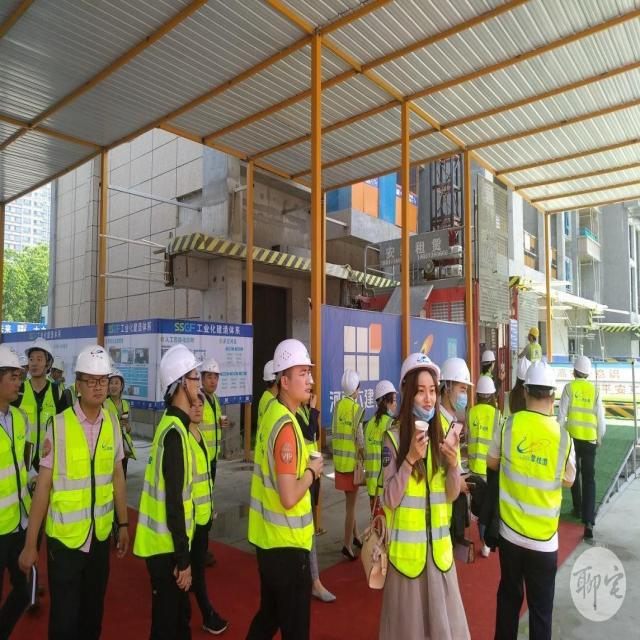helmet: (154, 341, 205, 387), (70, 346, 114, 384), (266, 337, 314, 370), (521, 363, 562, 391)
person: (370, 346, 479, 640), (135, 335, 239, 640), (38, 341, 132, 640), (244, 335, 328, 640), (493, 358, 568, 640)
vest: (47, 406, 128, 558), (248, 402, 318, 548), (501, 405, 567, 545), (144, 421, 192, 555)
